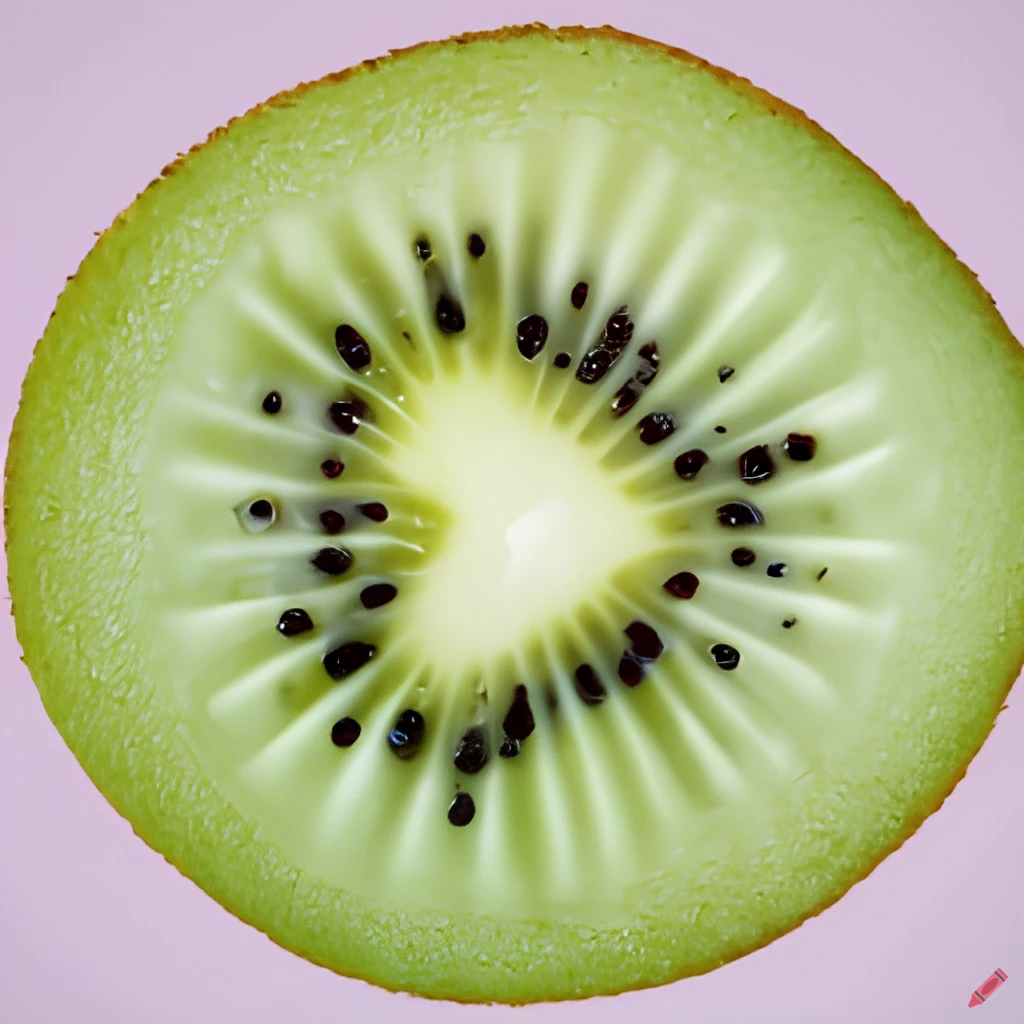Kiwi: (0, 13, 1024, 1012)
